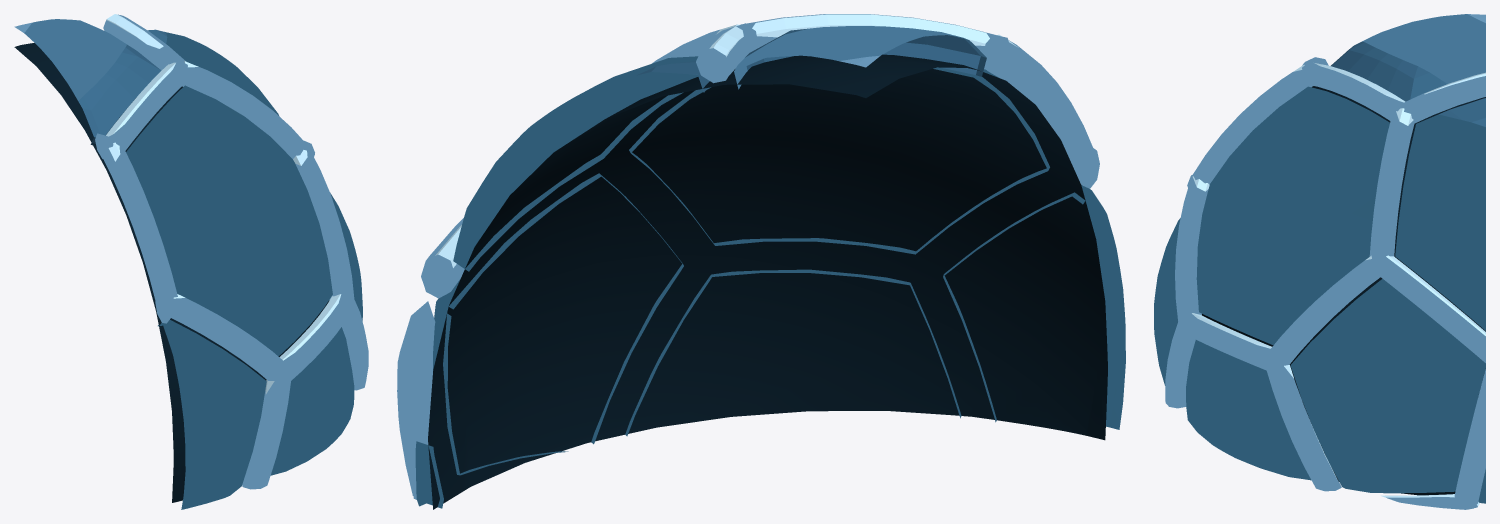
Rendered from fruit_geoball_br.glb.
3 renders of one model, left to right at view 1: azimuth 30°, elevation 25°; view 2: azimuth 150°, elevation 25°; view 3: azimuth 270°, elevation 25°, orthographic. The views are drawn at different scales.
Visible parts, largest first — view 1: fruit_geoball_br; view 2: fruit_geoball_br; view 3: fruit_geoball_br.
Boxes of the visible parts, box(x1,y1,x2,y2) form: fruit_geoball_br: box(14, 14, 368, 509); fruit_geoball_br: box(397, 14, 1125, 509); fruit_geoball_br: box(1154, 14, 1485, 509).
Bounding box in the file's own units: 24.9 × 27.63 × 23.7.
